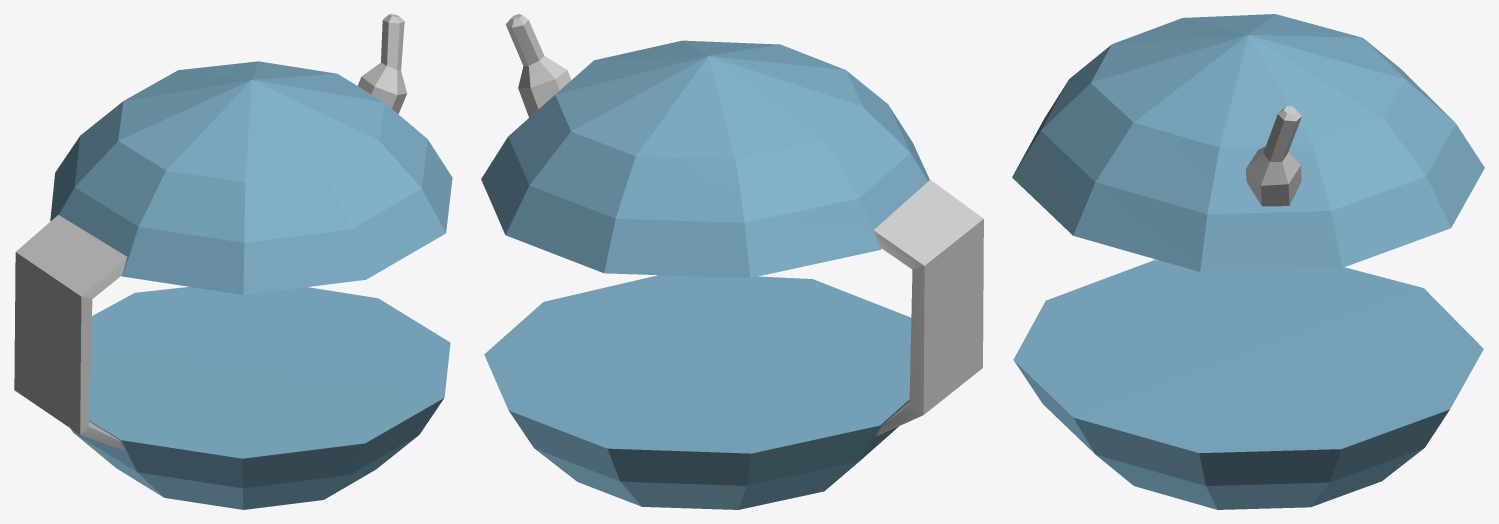
Rendered from puzz-shell1.gltf.
3 views of the same model, side by side, from view 1: azimuth 30°, elevation 25°; view 2: azimuth 150°, elevation 25°; view 3: azimuth 270°, elevation 25° (orthographic). The views are drawn at different scales.
Visible parts, largest first — view 1: puzz_render.001, puzz_render, puzz_render.004, puzz_render.003; view 2: puzz_render.001, puzz_render, puzz_render.004, puzz_render.003; view 3: puzz_render, puzz_render.001, puzz_render.003.
Part boxes in pixels (x1,y1,x2,y2): puzz_render.001: (50, 61, 452, 294); puzz_render: (70, 287, 450, 509); puzz_render.004: (14, 215, 126, 451); puzz_render.003: (357, 14, 406, 113); puzz_render.001: (481, 40, 929, 278); puzz_render: (484, 275, 911, 509); puzz_render.004: (873, 180, 983, 436); puzz_render.003: (505, 14, 571, 117); puzz_render: (1013, 260, 1483, 509); puzz_render.001: (1012, 14, 1484, 271); puzz_render.003: (1246, 106, 1301, 206).
Size of the model in its own units: 12.08 by 12.24 by 11.15.
